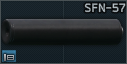Gemtech SFN-57 5.7x28 sound suppressor: (0, 0, 127, 64)
